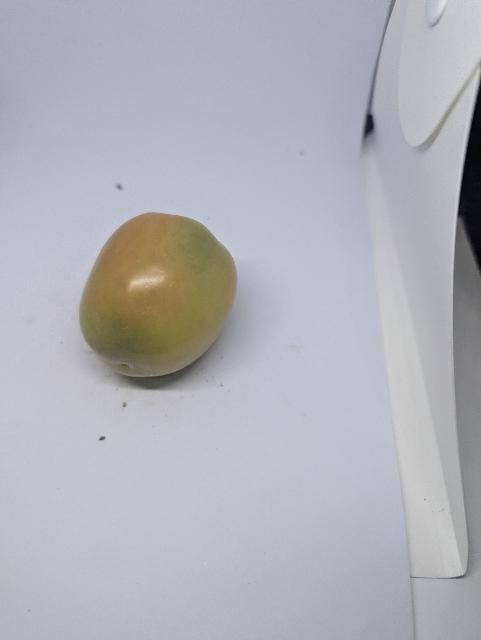breaker: (79, 213, 237, 377)
